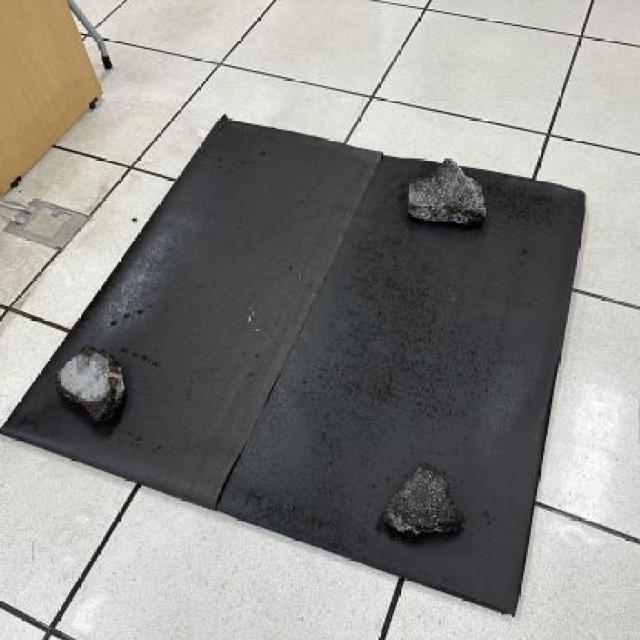Road Debris: (388, 471, 461, 518), (408, 158, 464, 197), (76, 352, 122, 380)
